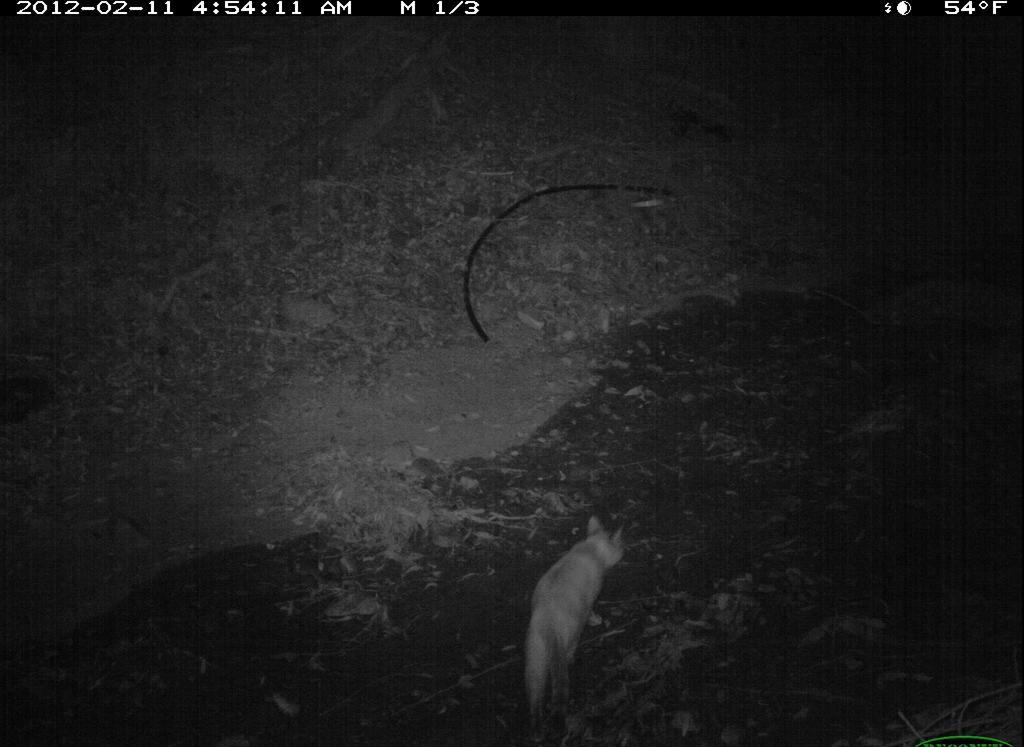cat: (516, 510, 633, 743)
